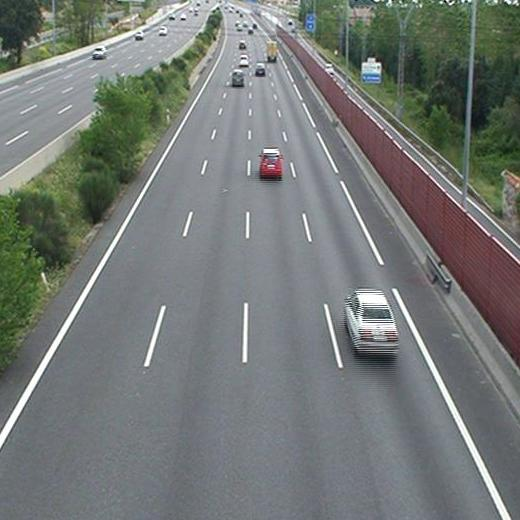car: (345, 290, 398, 355), (259, 149, 282, 174), (232, 69, 244, 85), (255, 63, 266, 75), (238, 40, 248, 50), (238, 56, 249, 65)
small-truck: (266, 41, 277, 61)
